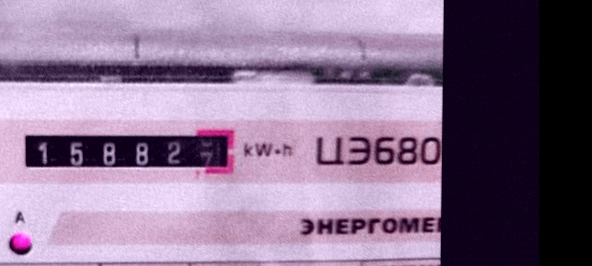1: (37, 140, 51, 165)
2: (167, 140, 182, 164)
5: (69, 140, 85, 166)
7: (200, 148, 214, 167)
8: (102, 141, 118, 167), (135, 140, 150, 166)
screen: (11, 119, 245, 185)
